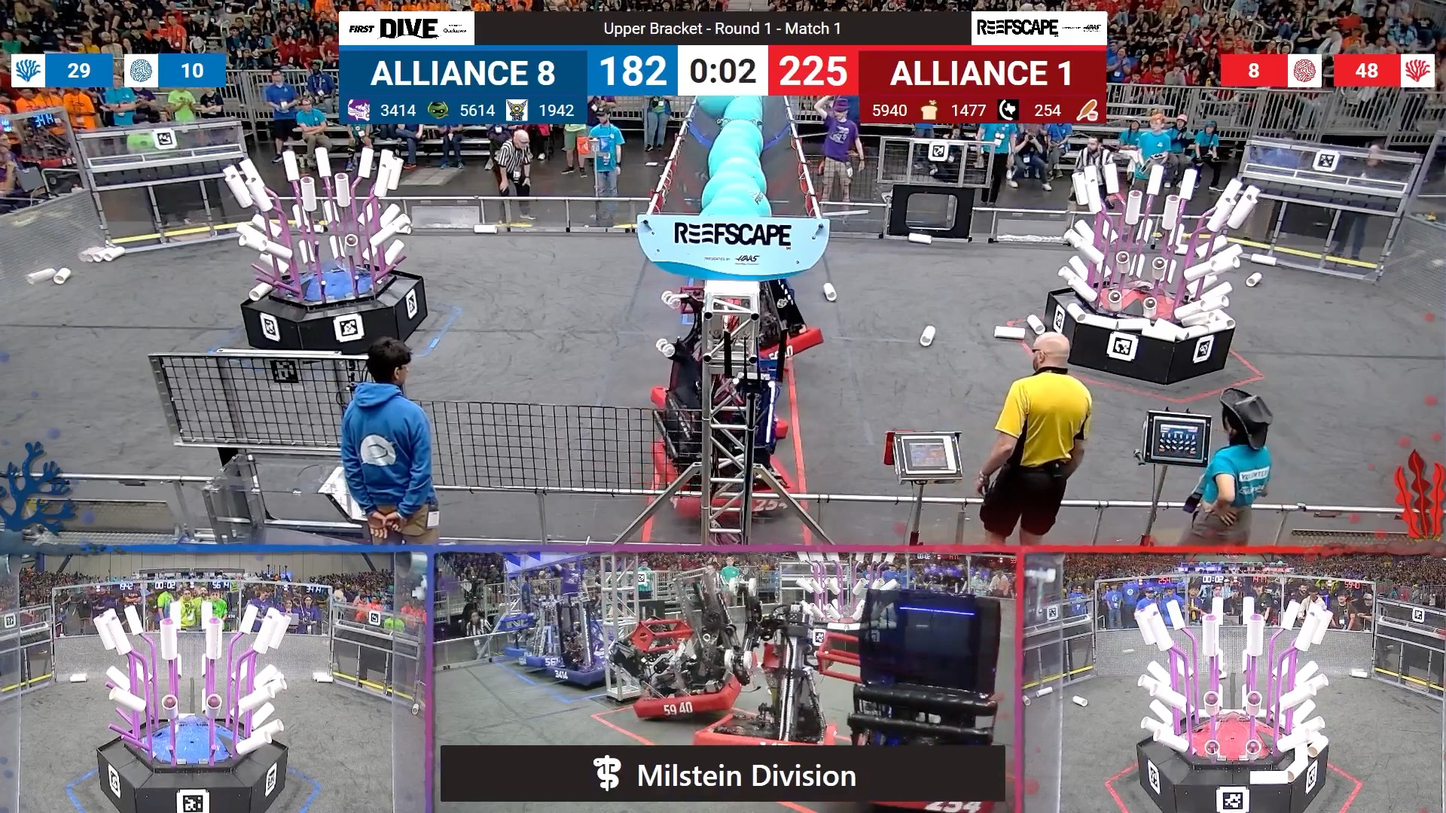bumpers: (649, 434, 801, 523), (696, 714, 837, 745), (635, 676, 745, 715), (773, 327, 832, 376), (527, 658, 625, 687), (513, 653, 571, 671)
